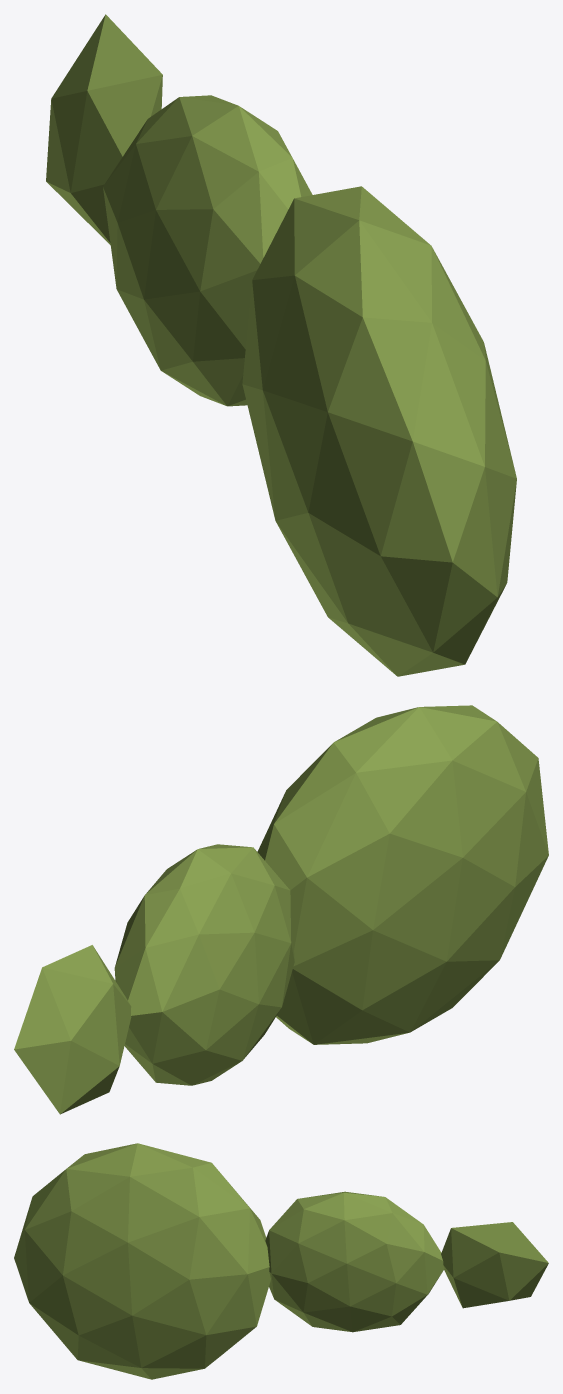
File: RoundedCactus_1.fbx
The picture shows the model from 3 angles, top to bottom: view 1: azimuth 30°, elevation 25°; view 2: azimuth 150°, elevation 25°; view 3: azimuth 270°, elevation 25°; orthographic projection. The views are drawn at different scales.
Parts seen in each view (by area): view 1: RoundedCactus_1; view 2: RoundedCactus_1; view 3: RoundedCactus_1.
Boxes of the visible parts, x1=… form: RoundedCactus_1: x1=46, y1=14, x2=516, y2=676; RoundedCactus_1: x1=14, y1=705, x2=548, y2=1114; RoundedCactus_1: x1=14, y1=1143, x2=548, y2=1379.
Bounding box in the file's own units: 63.76 × 116 × 253.
